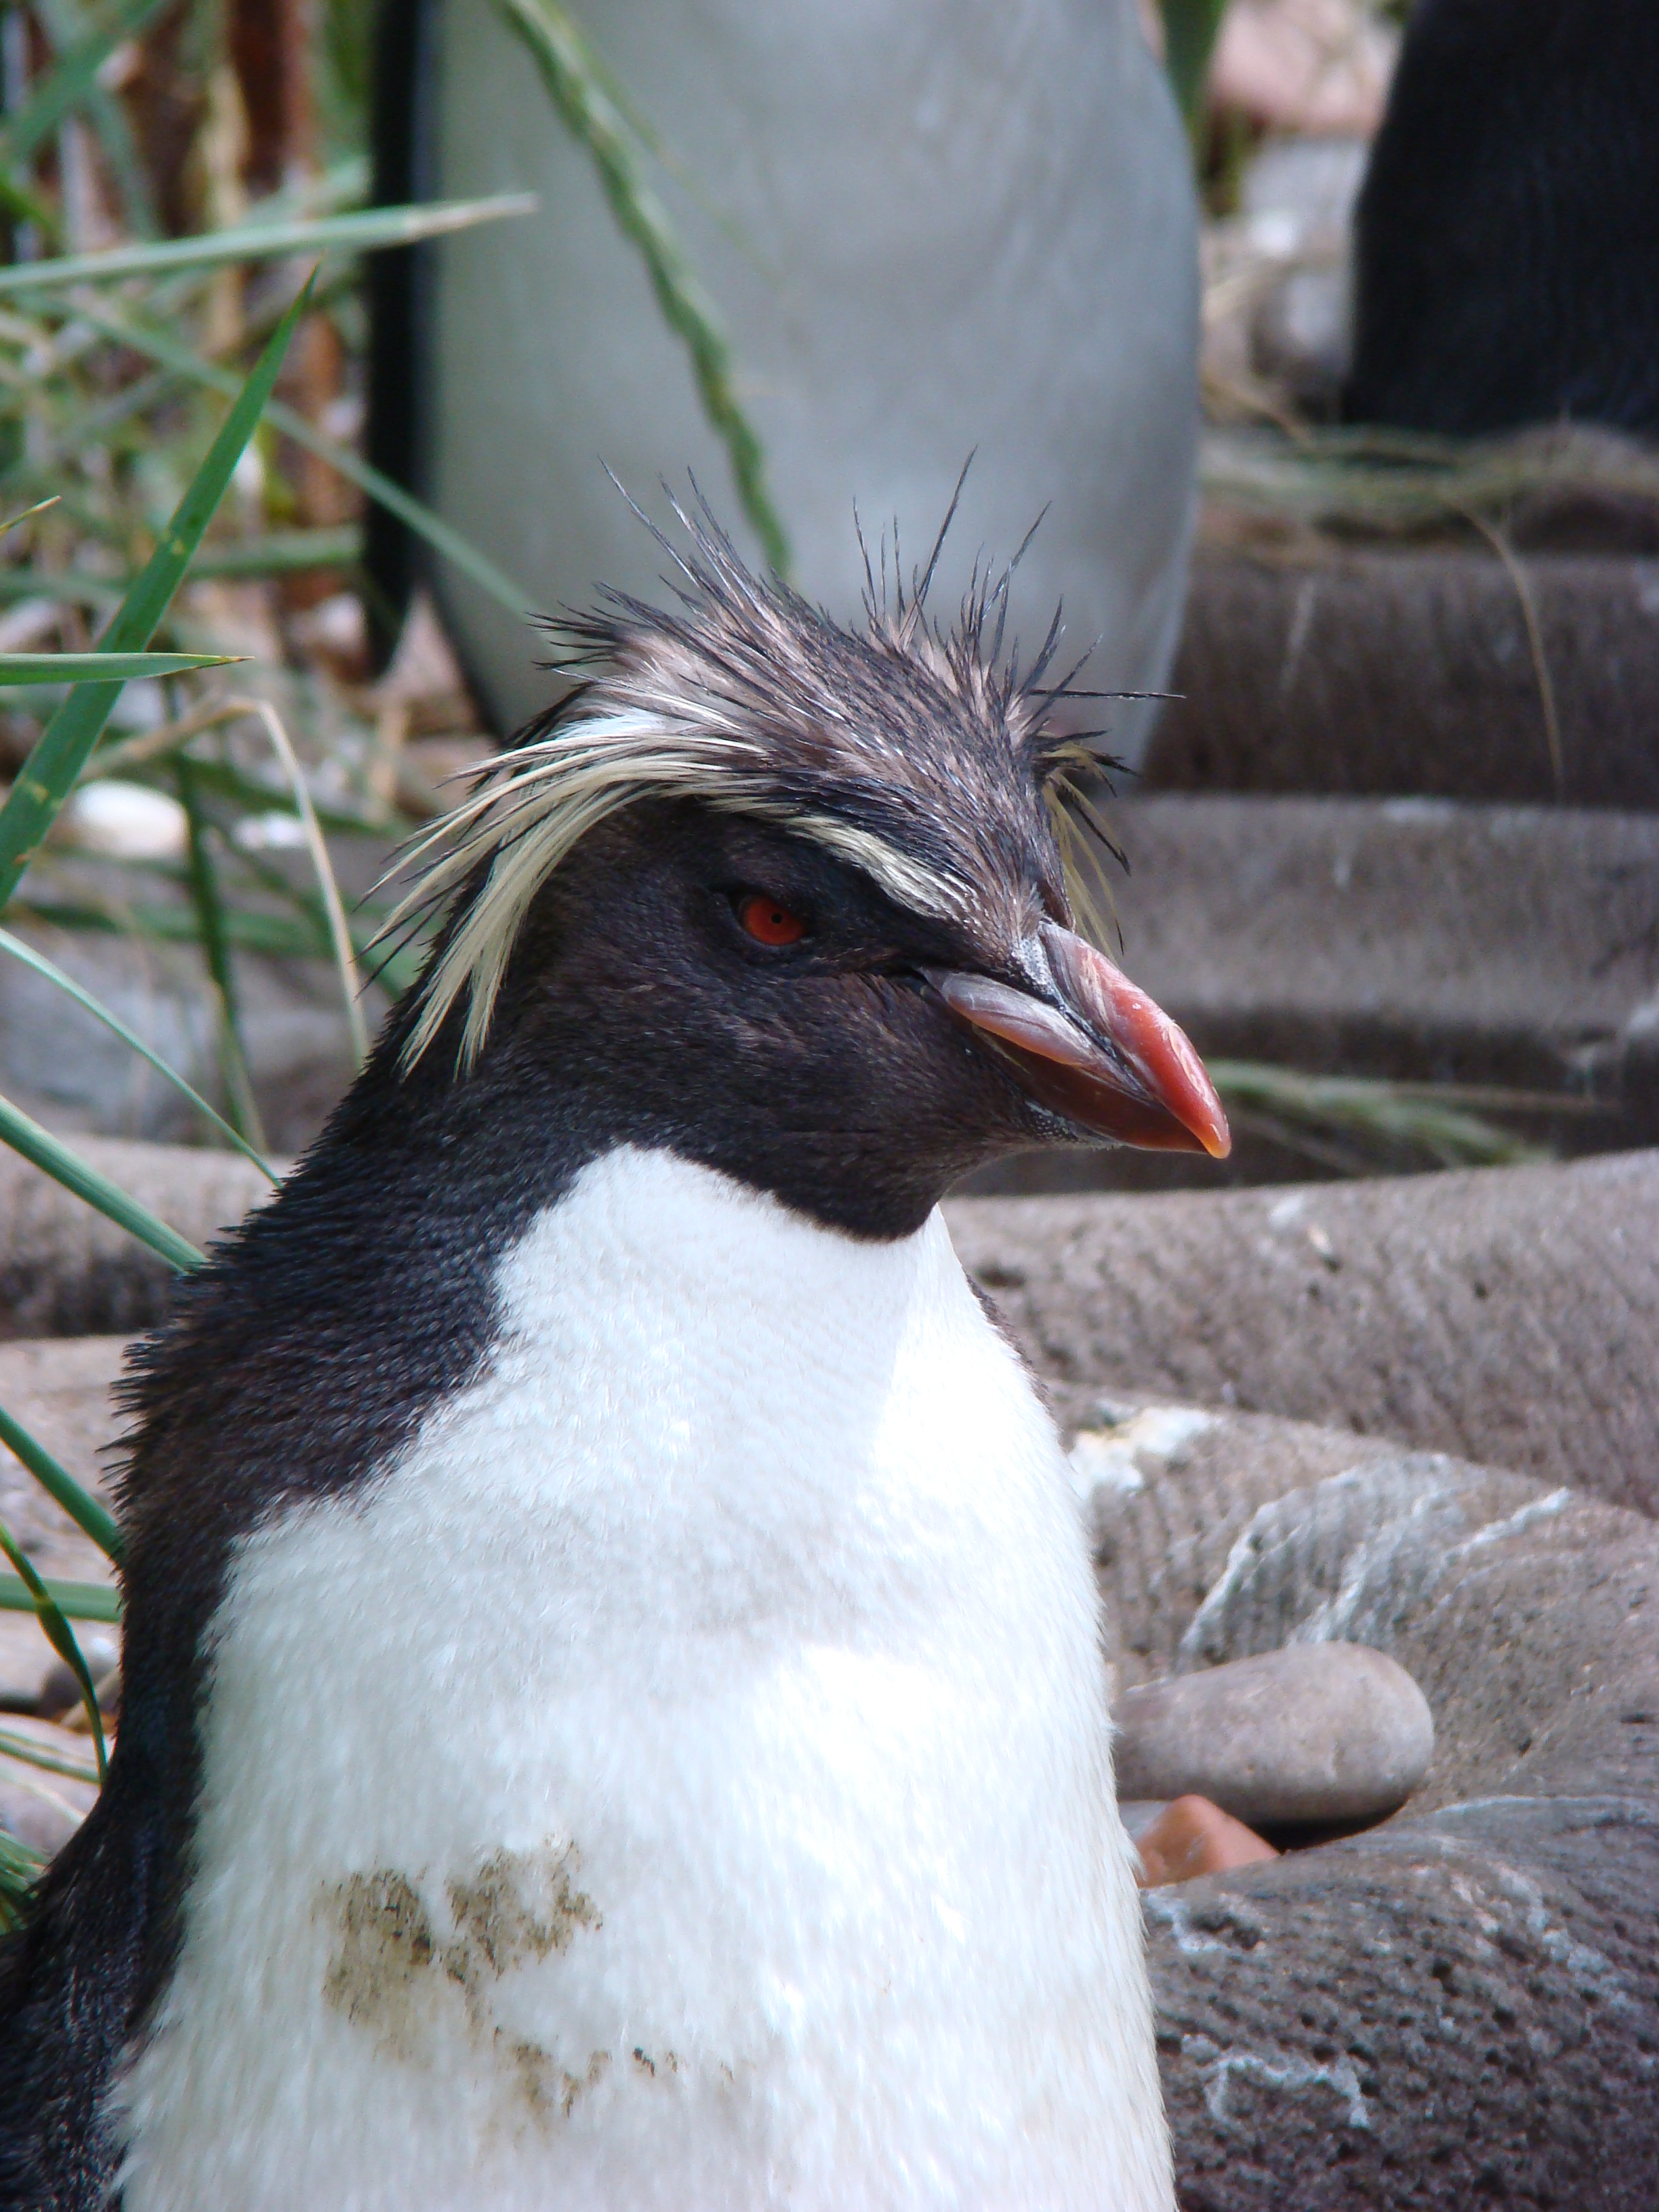penguin: (106, 462, 1188, 2212)
